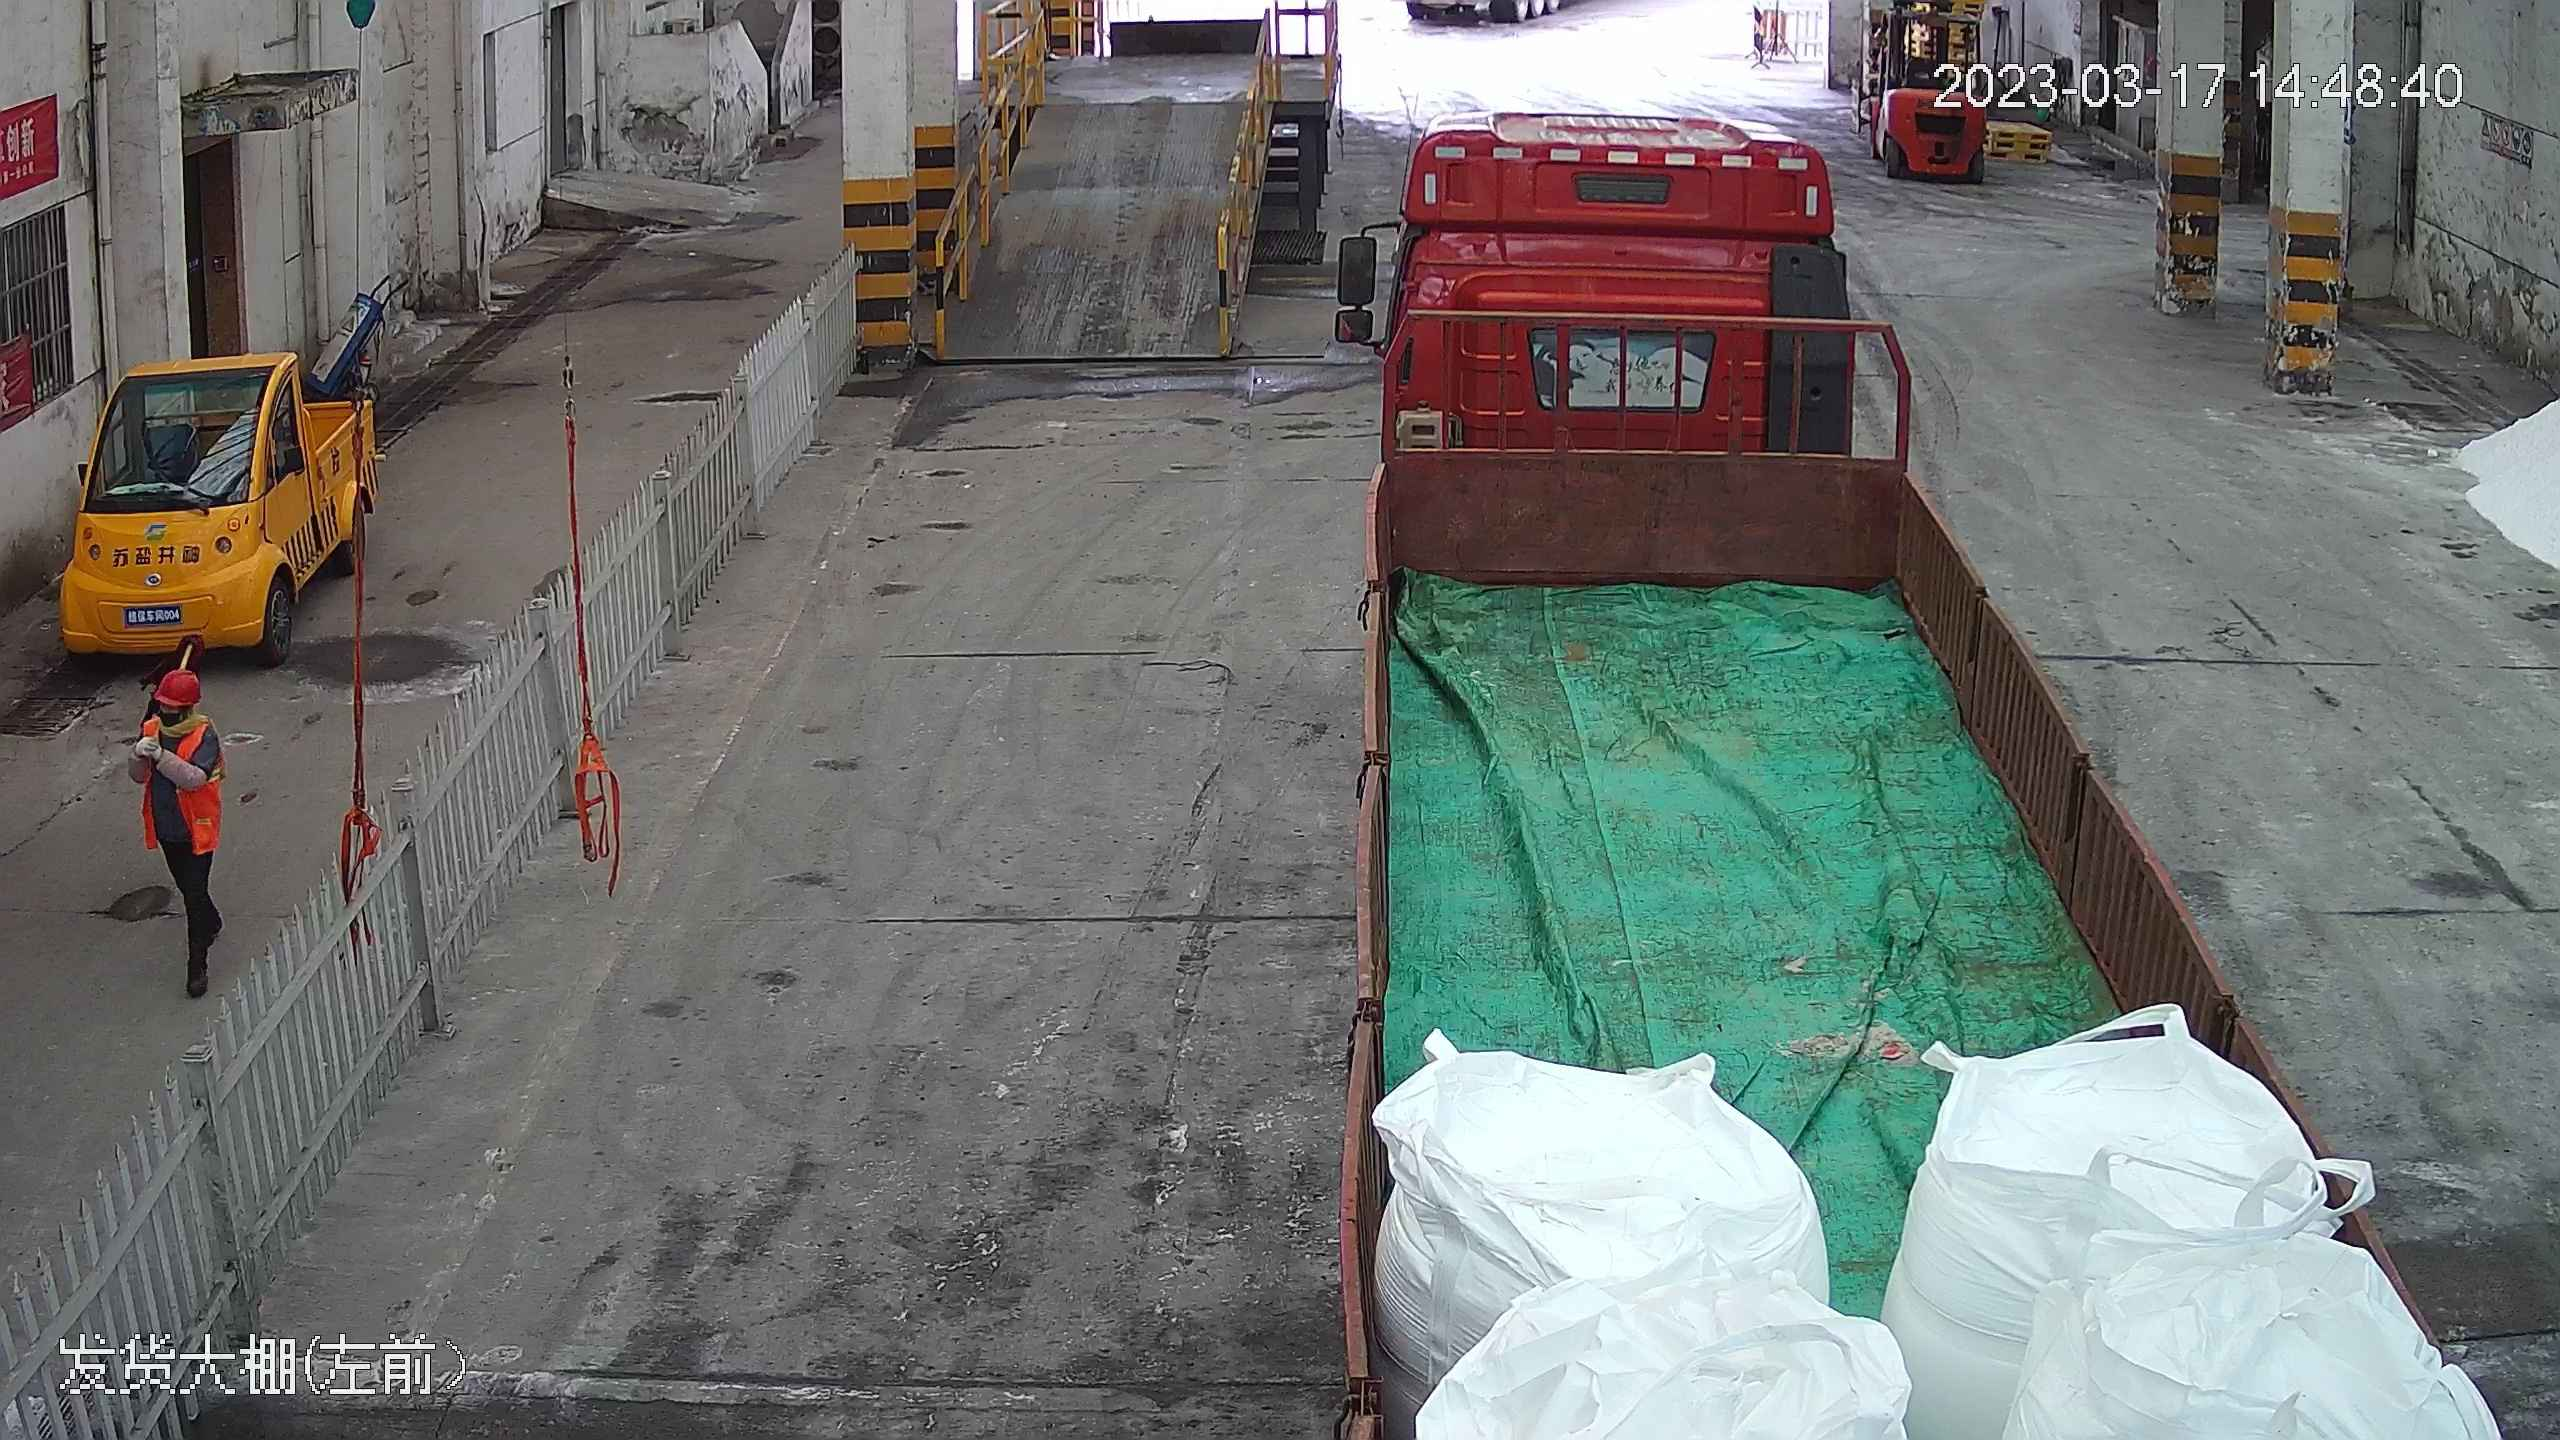head: (135, 662, 218, 760)
helmet: (149, 662, 203, 708)
people: (108, 653, 228, 1003)
truck: (1299, 64, 2557, 1440)
